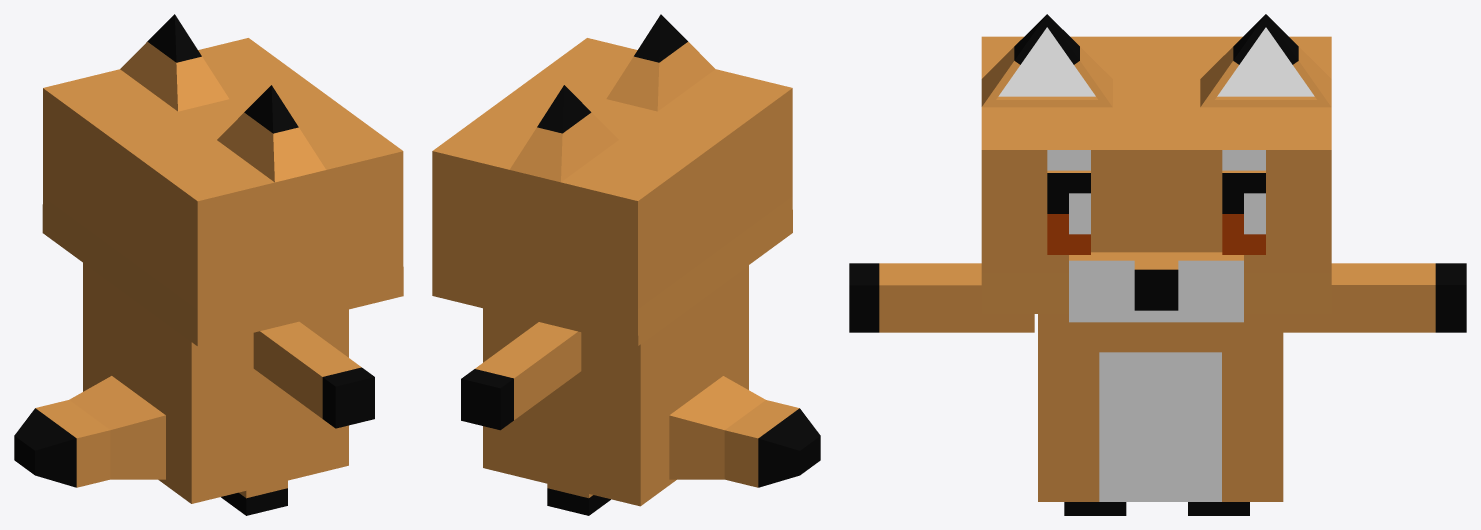
The model's file is fox2.fbx.
3 renders of one model, left to right at view 1: azimuth 30°, elevation 25°; view 2: azimuth 150°, elevation 25°; view 3: azimuth 270°, elevation 25°, orthographic. The views are drawn at different scales.
Parts seen in each view (by area): view 1: Cube.001, Cube.003, Cube.006, Cube.007, Cube.005; view 2: Cube.001, Cube.003, Cube.006, Cube.008, Cube.004; view 3: Cube.001, Cube.003, Cube.008, Cube.007, Cube.005, Cube.004.
Boxes of the visible parts, <box> form: Cube.001: <box>42,14,403,346</box>; Cube.003: <box>83,263,348,503</box>; Cube.006: <box>14,376,165,487</box>; Cube.007: <box>253,321,374,428</box>; Cube.005: <box>221,480,287,515</box>; Cube.001: <box>432,14,792,345</box>; Cube.003: <box>483,265,748,506</box>; Cube.006: <box>669,376,820,487</box>; Cube.008: <box>461,322,581,430</box>; Cube.004: <box>547,484,610,515</box>; Cube.001: <box>981,14,1331,322</box>; Cube.003: <box>1038,314,1283,501</box>; Cube.008: <box>1283,263,1466,332</box>; Cube.007: <box>849,263,1034,332</box>; Cube.005: <box>1064,502,1126,515</box>; Cube.004: <box>1188,502,1249,515</box>.
Bounding box in the file's own units: 379 × 471 × 539.
